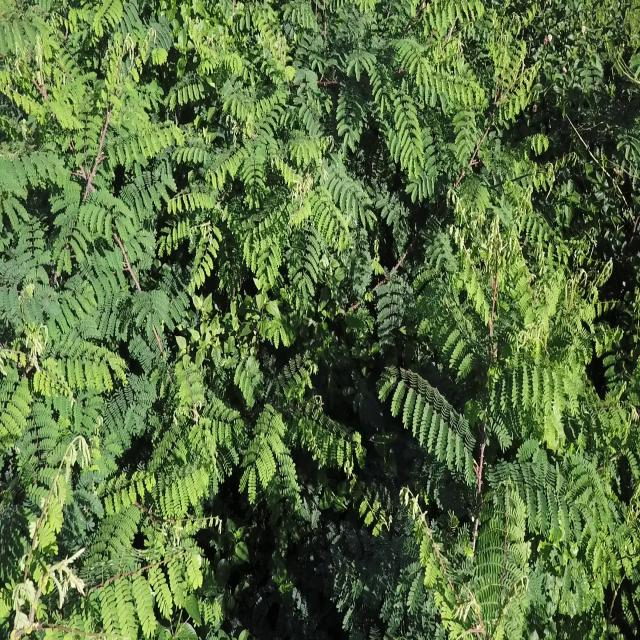Mysore-Thorn-Weed: (386, 230, 602, 640), (327, 0, 548, 206), (203, 0, 324, 294), (0, 0, 155, 206), (0, 489, 208, 640), (118, 265, 242, 503), (8, 219, 116, 467), (238, 351, 363, 508)
